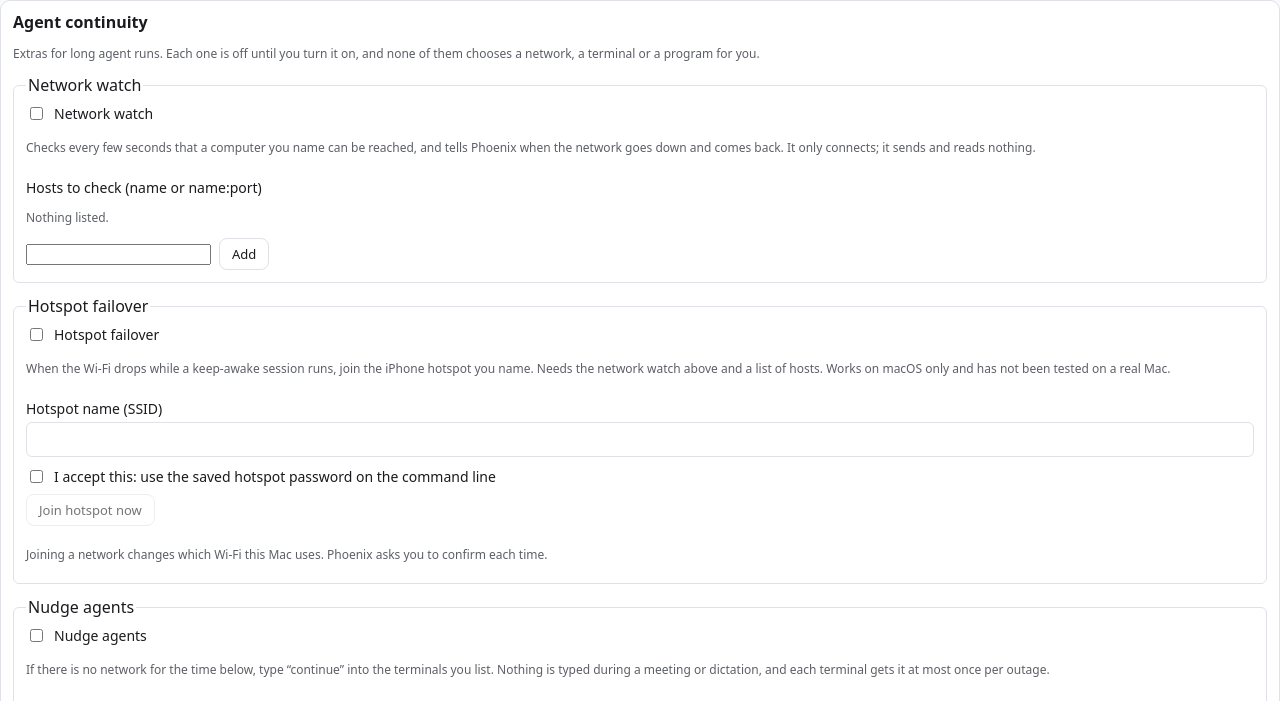
Test: Continuity settings › shows the hotspot disclosure when enabling, and never a password field
Click the checkbox labelled "Hotspot failover". click: x=36, y=334
box: [30,328,43,341]
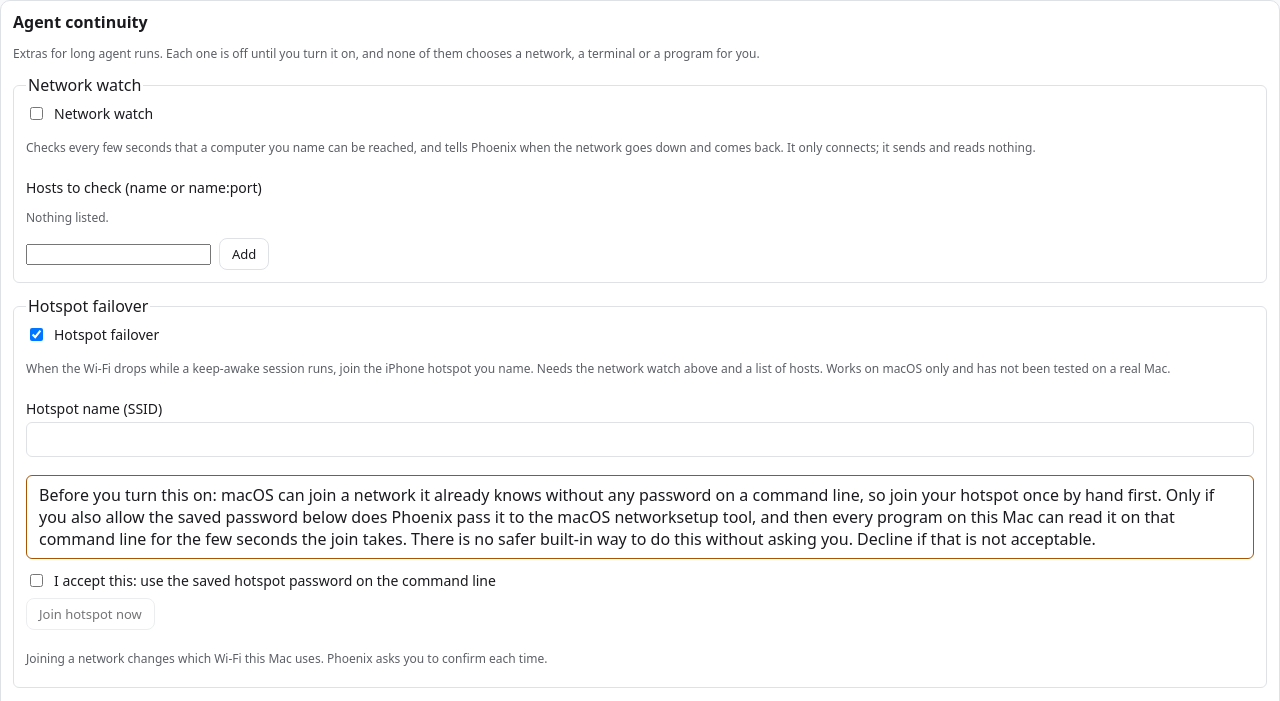
Expected: the text "every program on this Mac can read it on that command line" is shown, [39,484,1214,550]
Expected: the text "Decline if that is not acceptable" is shown, [39,484,1214,550]
